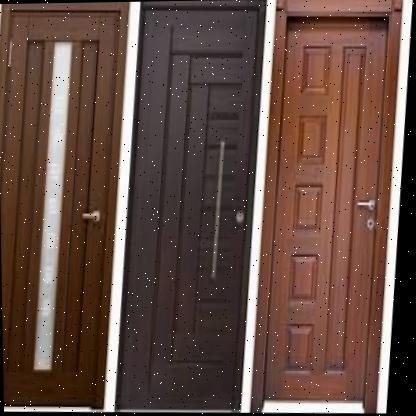door: (99, 0, 277, 413), (250, 2, 410, 413), (0, 1, 149, 408)
